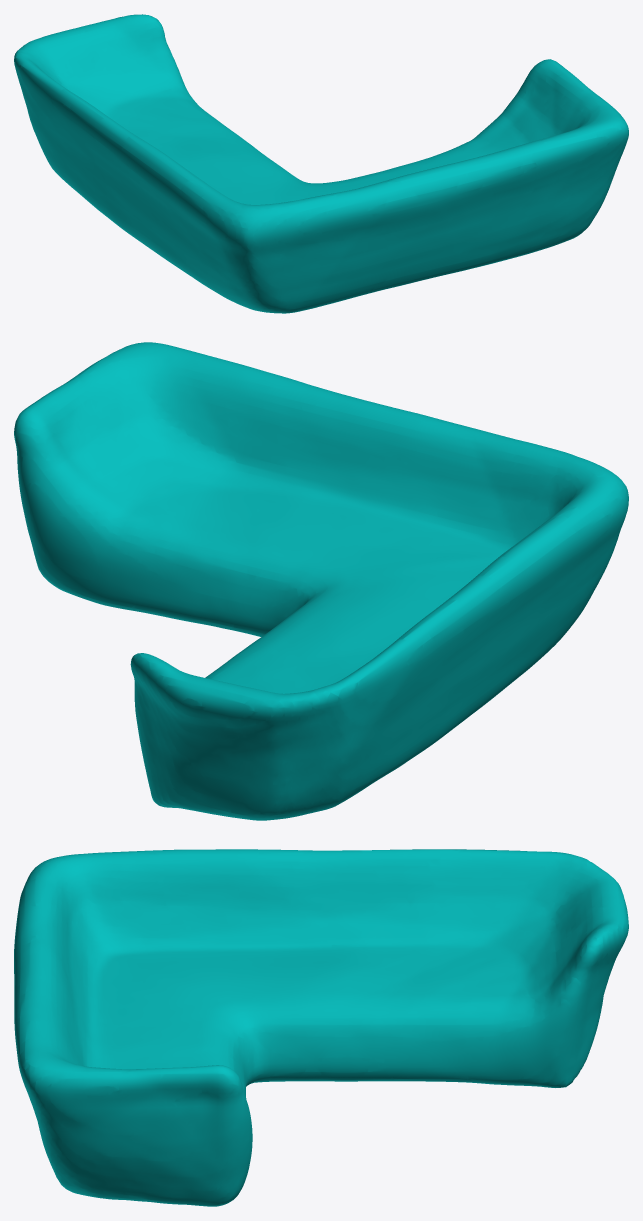
The picture shows the model from 3 angles, top to bottom: view 1: azimuth 30°, elevation 25°; view 2: azimuth 150°, elevation 25°; view 3: azimuth 270°, elevation 25°; orthographic projection. The views are drawn at different scales.
Bounding box in the file's own units: 0.9306 × 0.2992 × 1.02.
